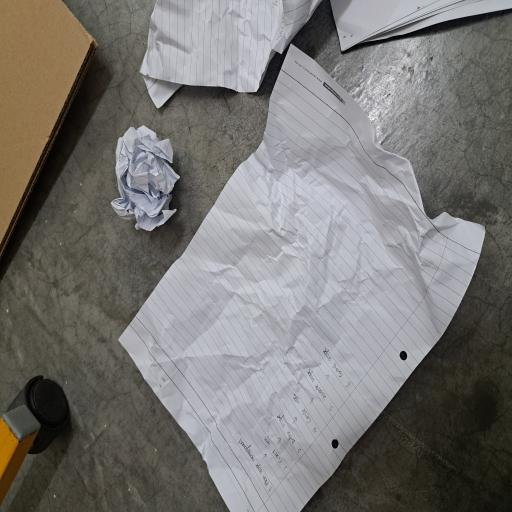cardboard: (192, 0, 384, 133)
paper: (0, 157, 353, 512), (302, 187, 384, 439), (210, 148, 291, 239), (344, 440, 383, 512)
